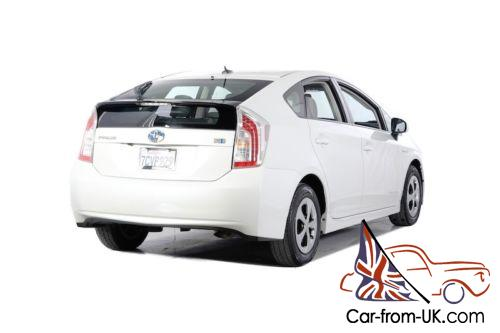Toyota Prius: (67, 61, 428, 270)
